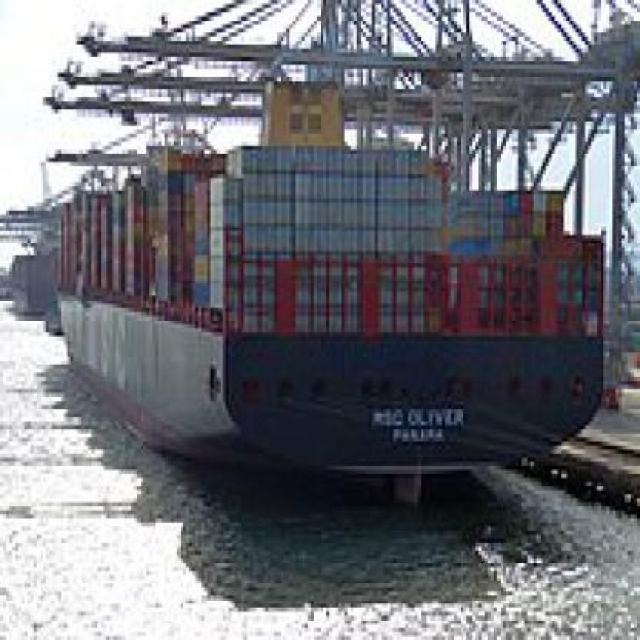container: (56, 70, 614, 516)
